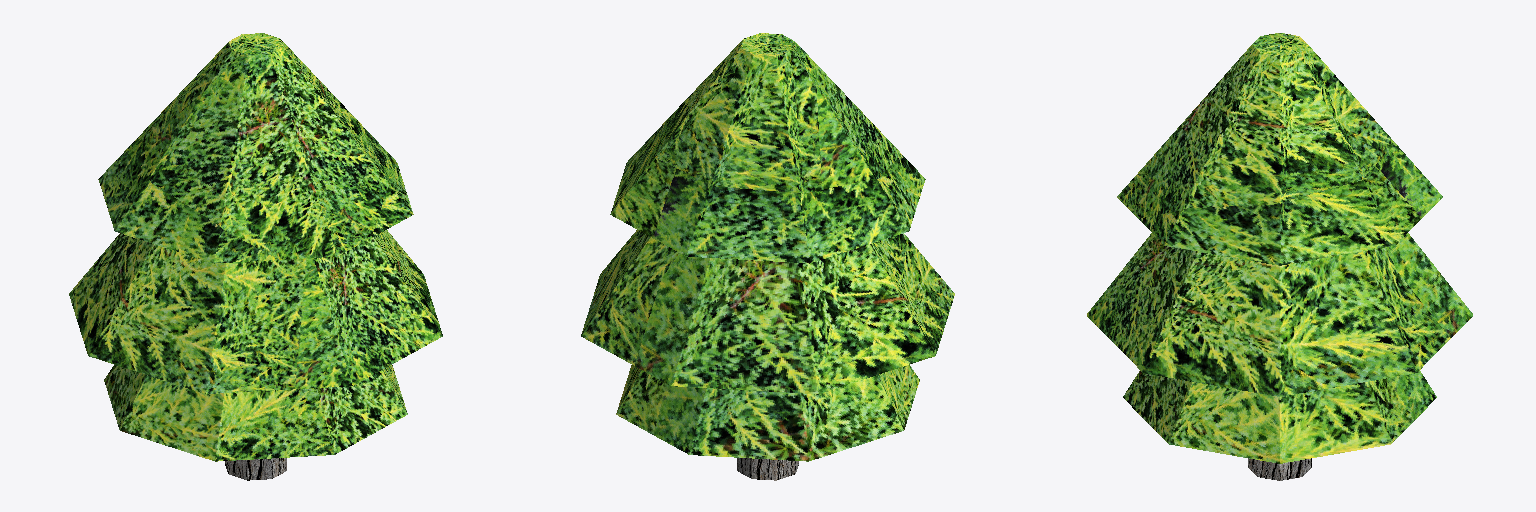
The picture shows the model from 3 angles: view 1: azimuth 30°, elevation 25°; view 2: azimuth 150°, elevation 25°; view 3: azimuth 270°, elevation 25°; orthographic projection.
Visible parts, largest first — view 1: pCylinder2; view 2: pCylinder2; view 3: pCylinder2.
Part boxes in pixels (x1,y1,x2,y2): pCylinder2: (69,33,442,480); pCylinder2: (581,33,954,480); pCylinder2: (1087,33,1472,480).
Size of the model in its own units: 4.7 by 5.65 by 4.7.
Materials: 1 (1 with a texture image).